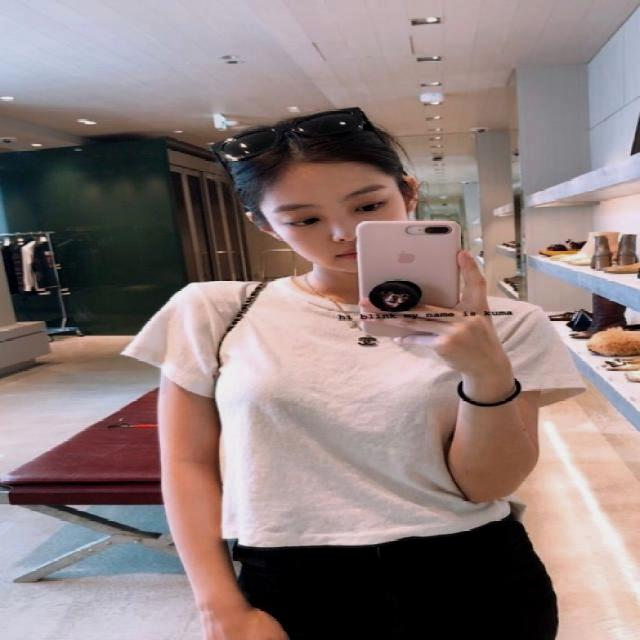lens: (403, 224, 452, 236)
phone: (356, 219, 456, 343)
